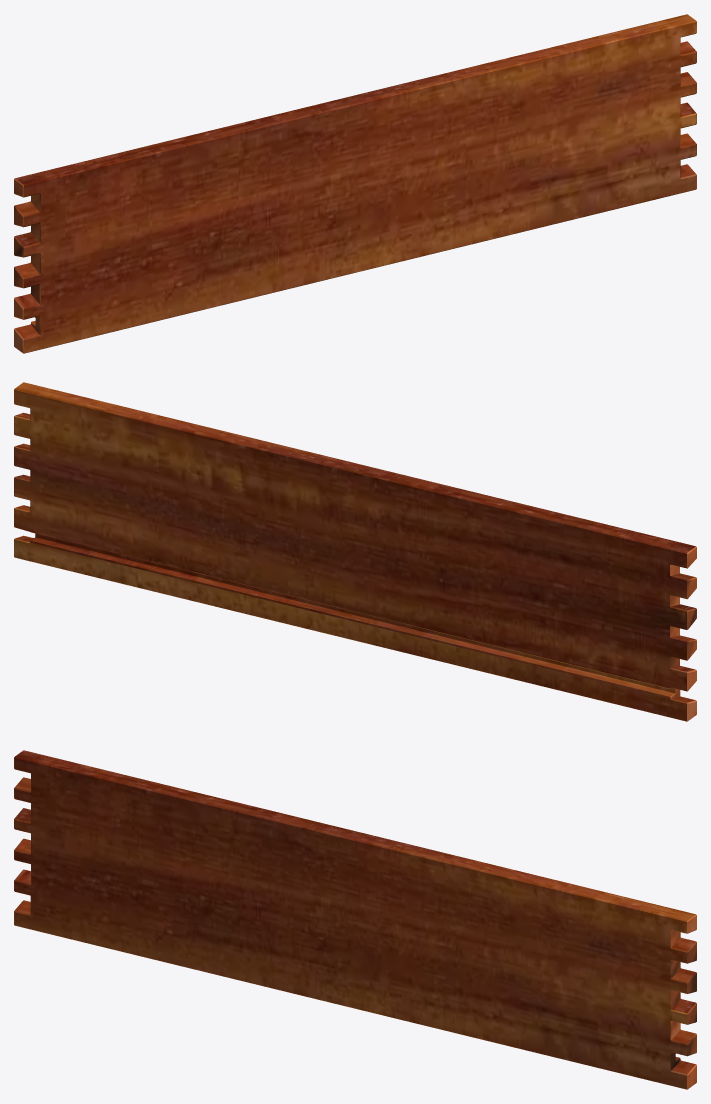
Rendered from SJ_J_chouhou_01.FBX.
3 views of the same model, one above another, from view 1: azimuth 30°, elevation 25°; view 2: azimuth 150°, elevation 25°; view 3: azimuth 330°, elevation 25° (orthographic).
Parts seen in each view (by area): view 1: SJ_J_chouhou_01; view 2: SJ_J_chouhou_01; view 3: SJ_J_chouhou_01.
Part boxes in pixels (x1,y1,x2,y2): SJ_J_chouhou_01: [14, 14, 696, 353]; SJ_J_chouhou_01: [14, 382, 696, 721]; SJ_J_chouhou_01: [14, 750, 696, 1089].
Bounding box in the file's own units: 48 × 11.5 × 1.2.
